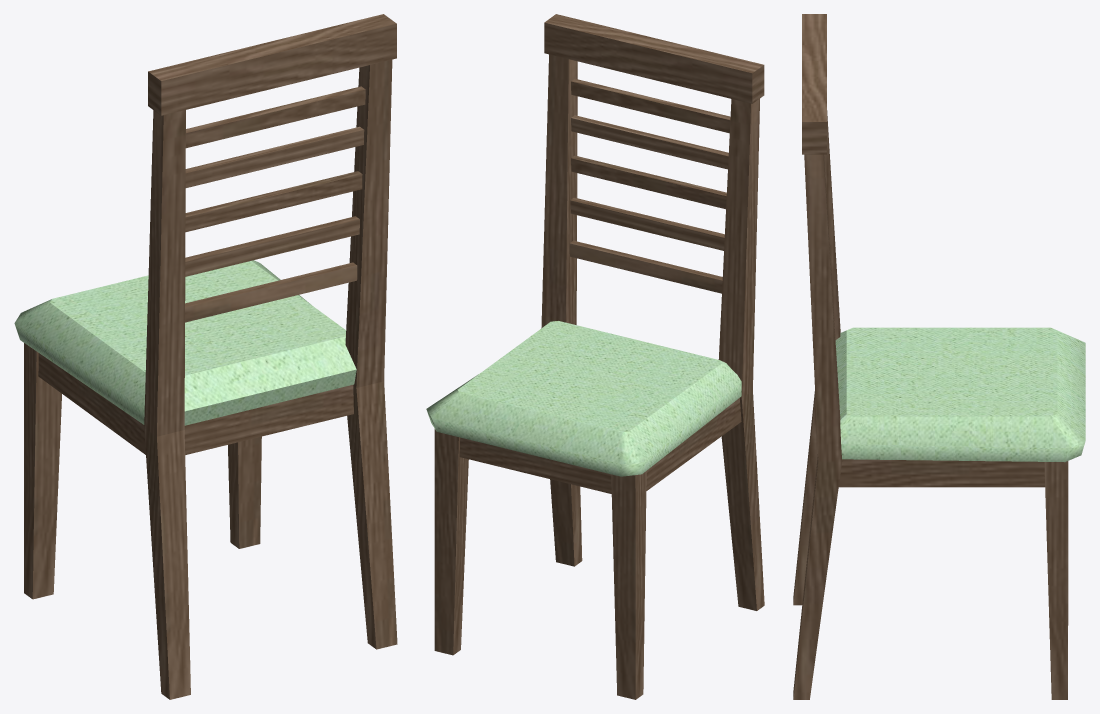
Rendered from FUR0210007.fbx.
3 renders of one model, left to right at view 1: azimuth 30°, elevation 25°; view 2: azimuth 150°, elevation 25°; view 3: azimuth 270°, elevation 25°, orthographic. The views are drawn at different scales.
Visible parts, largest first — view 1: smFUR0210007; view 2: smFUR0210007; view 3: smFUR0210007.
Part boxes in pixels (box(x1,y1,x2,y2)): smFUR0210007: box(14, 14, 397, 699); smFUR0210007: box(426, 14, 764, 699); smFUR0210007: box(793, 14, 1085, 699).
Bounding box in the file's own units: 60.8 × 146 × 66.48.
Materials: 1 (1 with a texture image).
